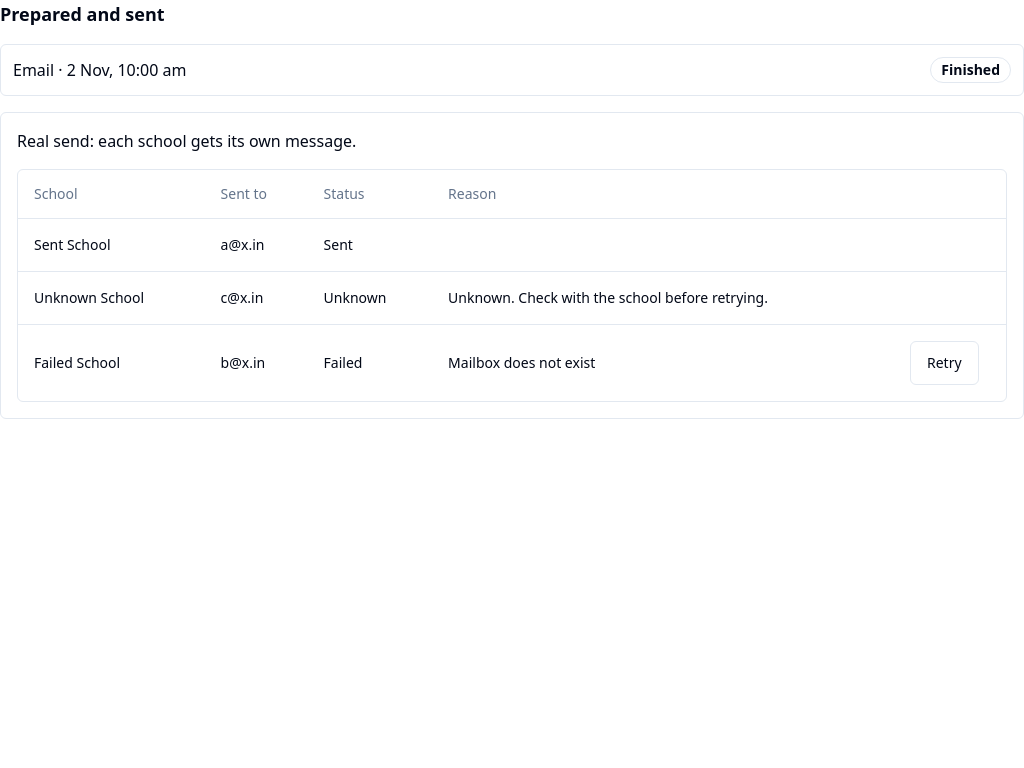
Test: Release & Send › asks for no retyping on a real batch
Click the button "Retry" at [944, 362], box [910,340,979,384]
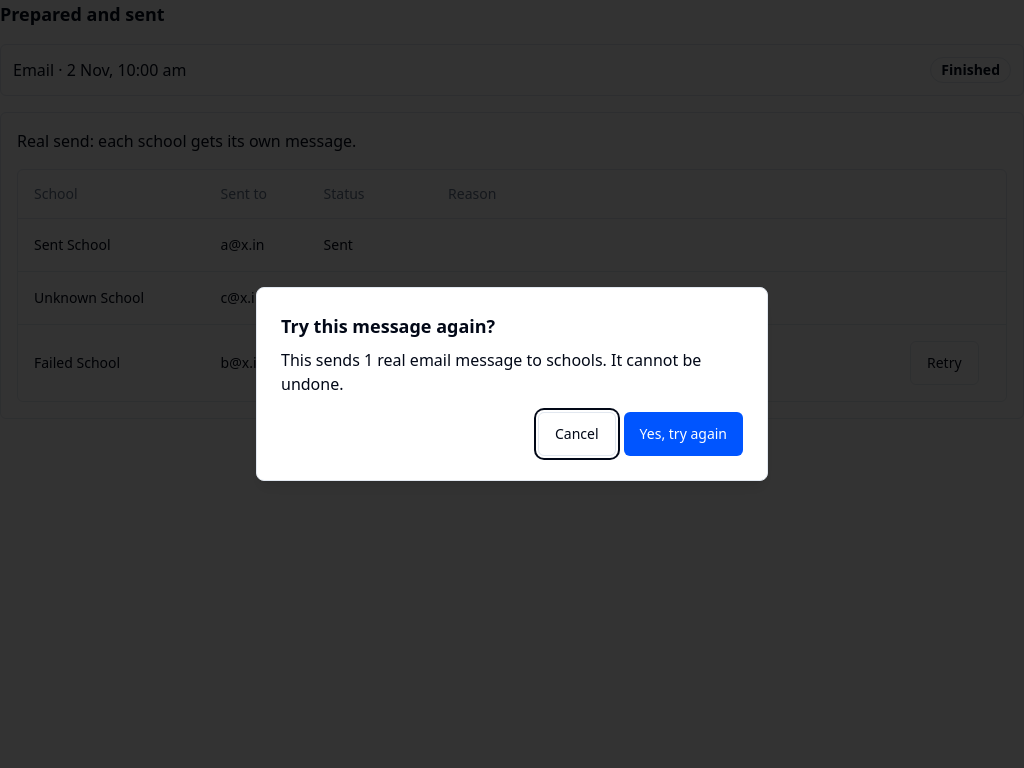
Now the button "Yes, try again" is enabled, box [624,412,743,456]
